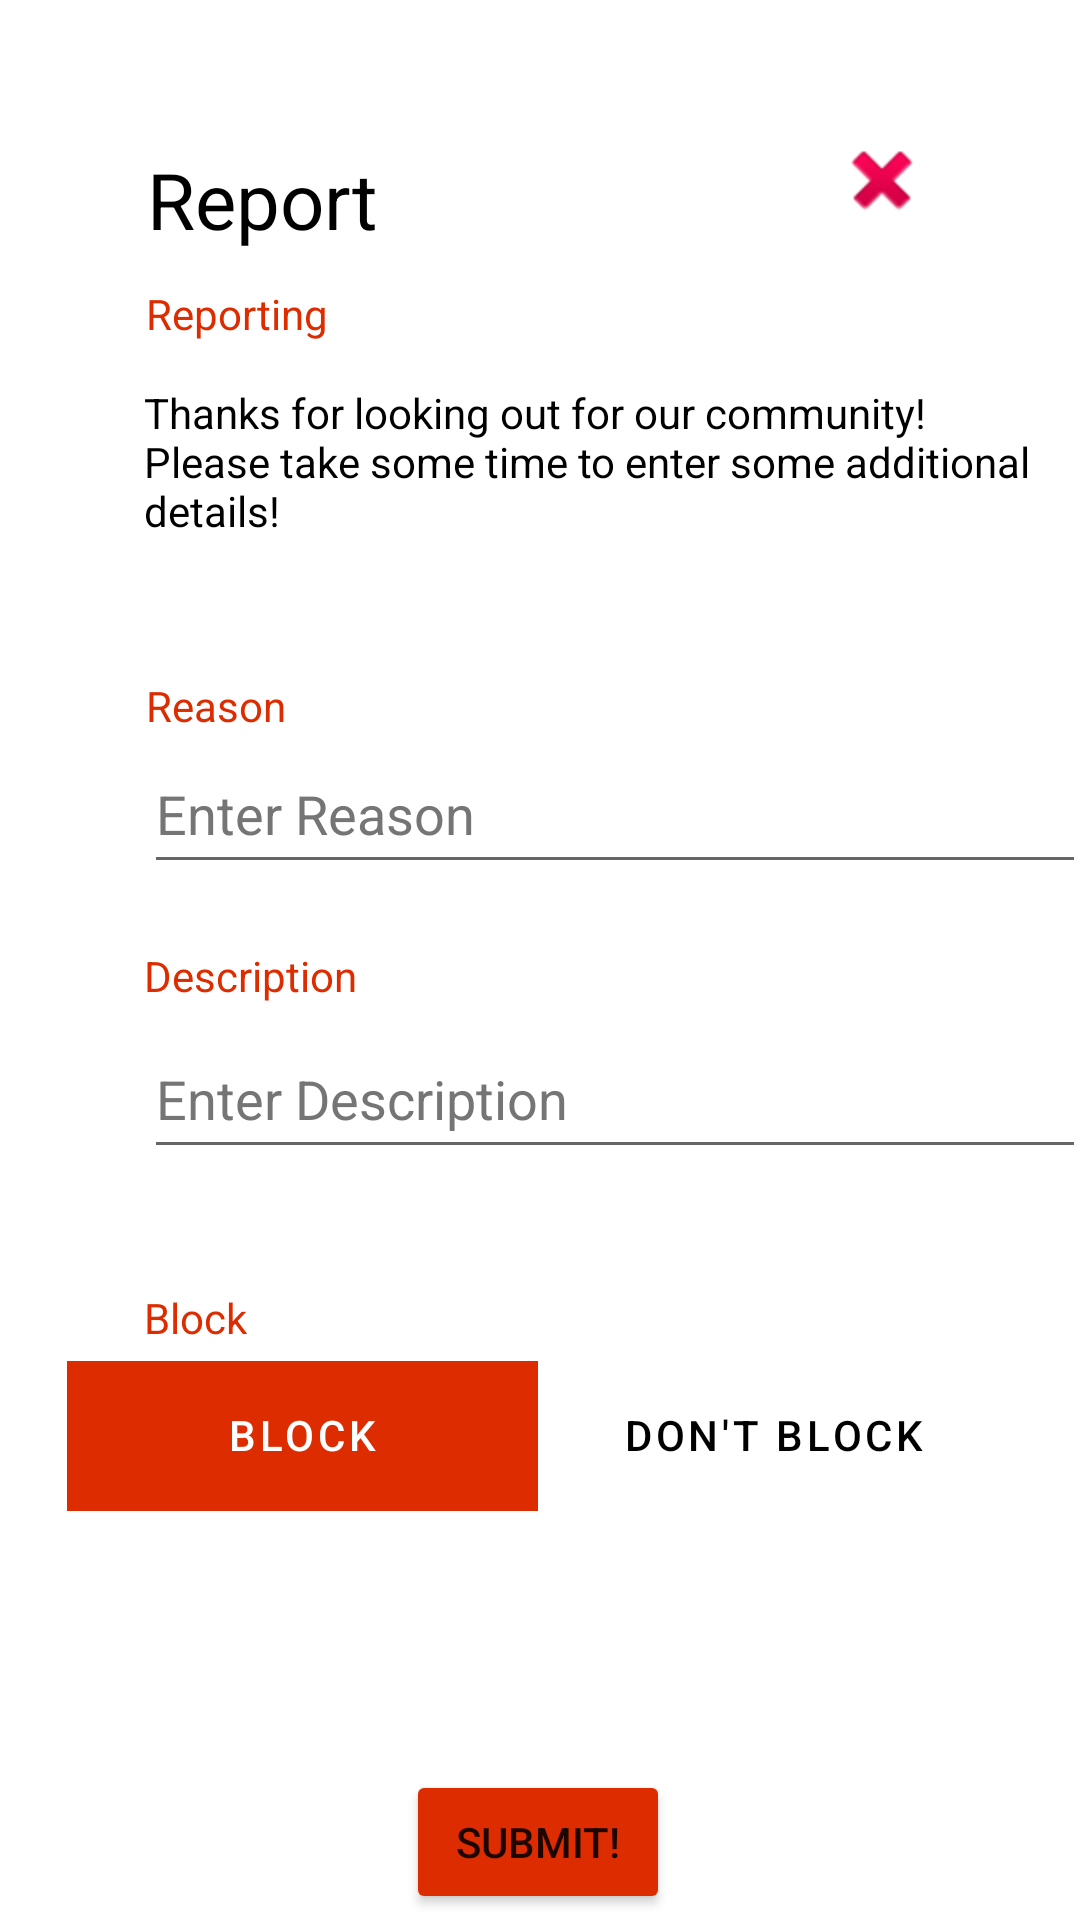

Screen size 1080 x 1920. Icon name, then its center in pixels as (x=x, y=y):
Cancel: (x=882, y=180)
